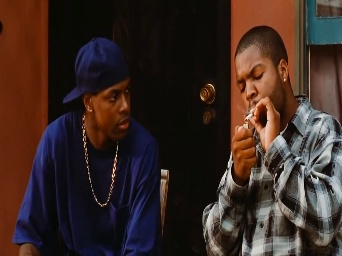smoke: (243, 109, 256, 121)
